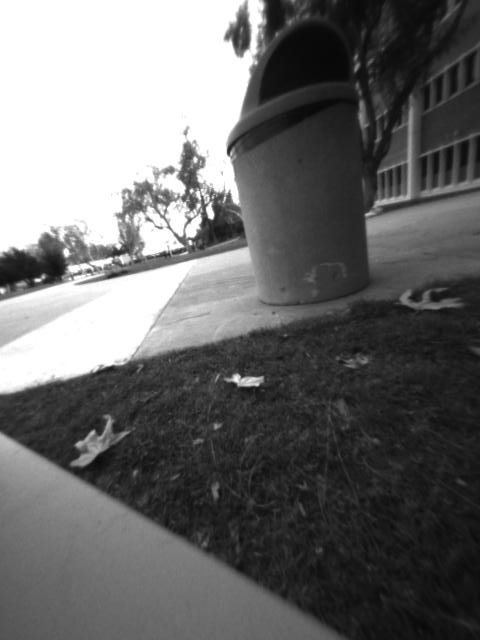trashcan: (224, 17, 378, 304)
